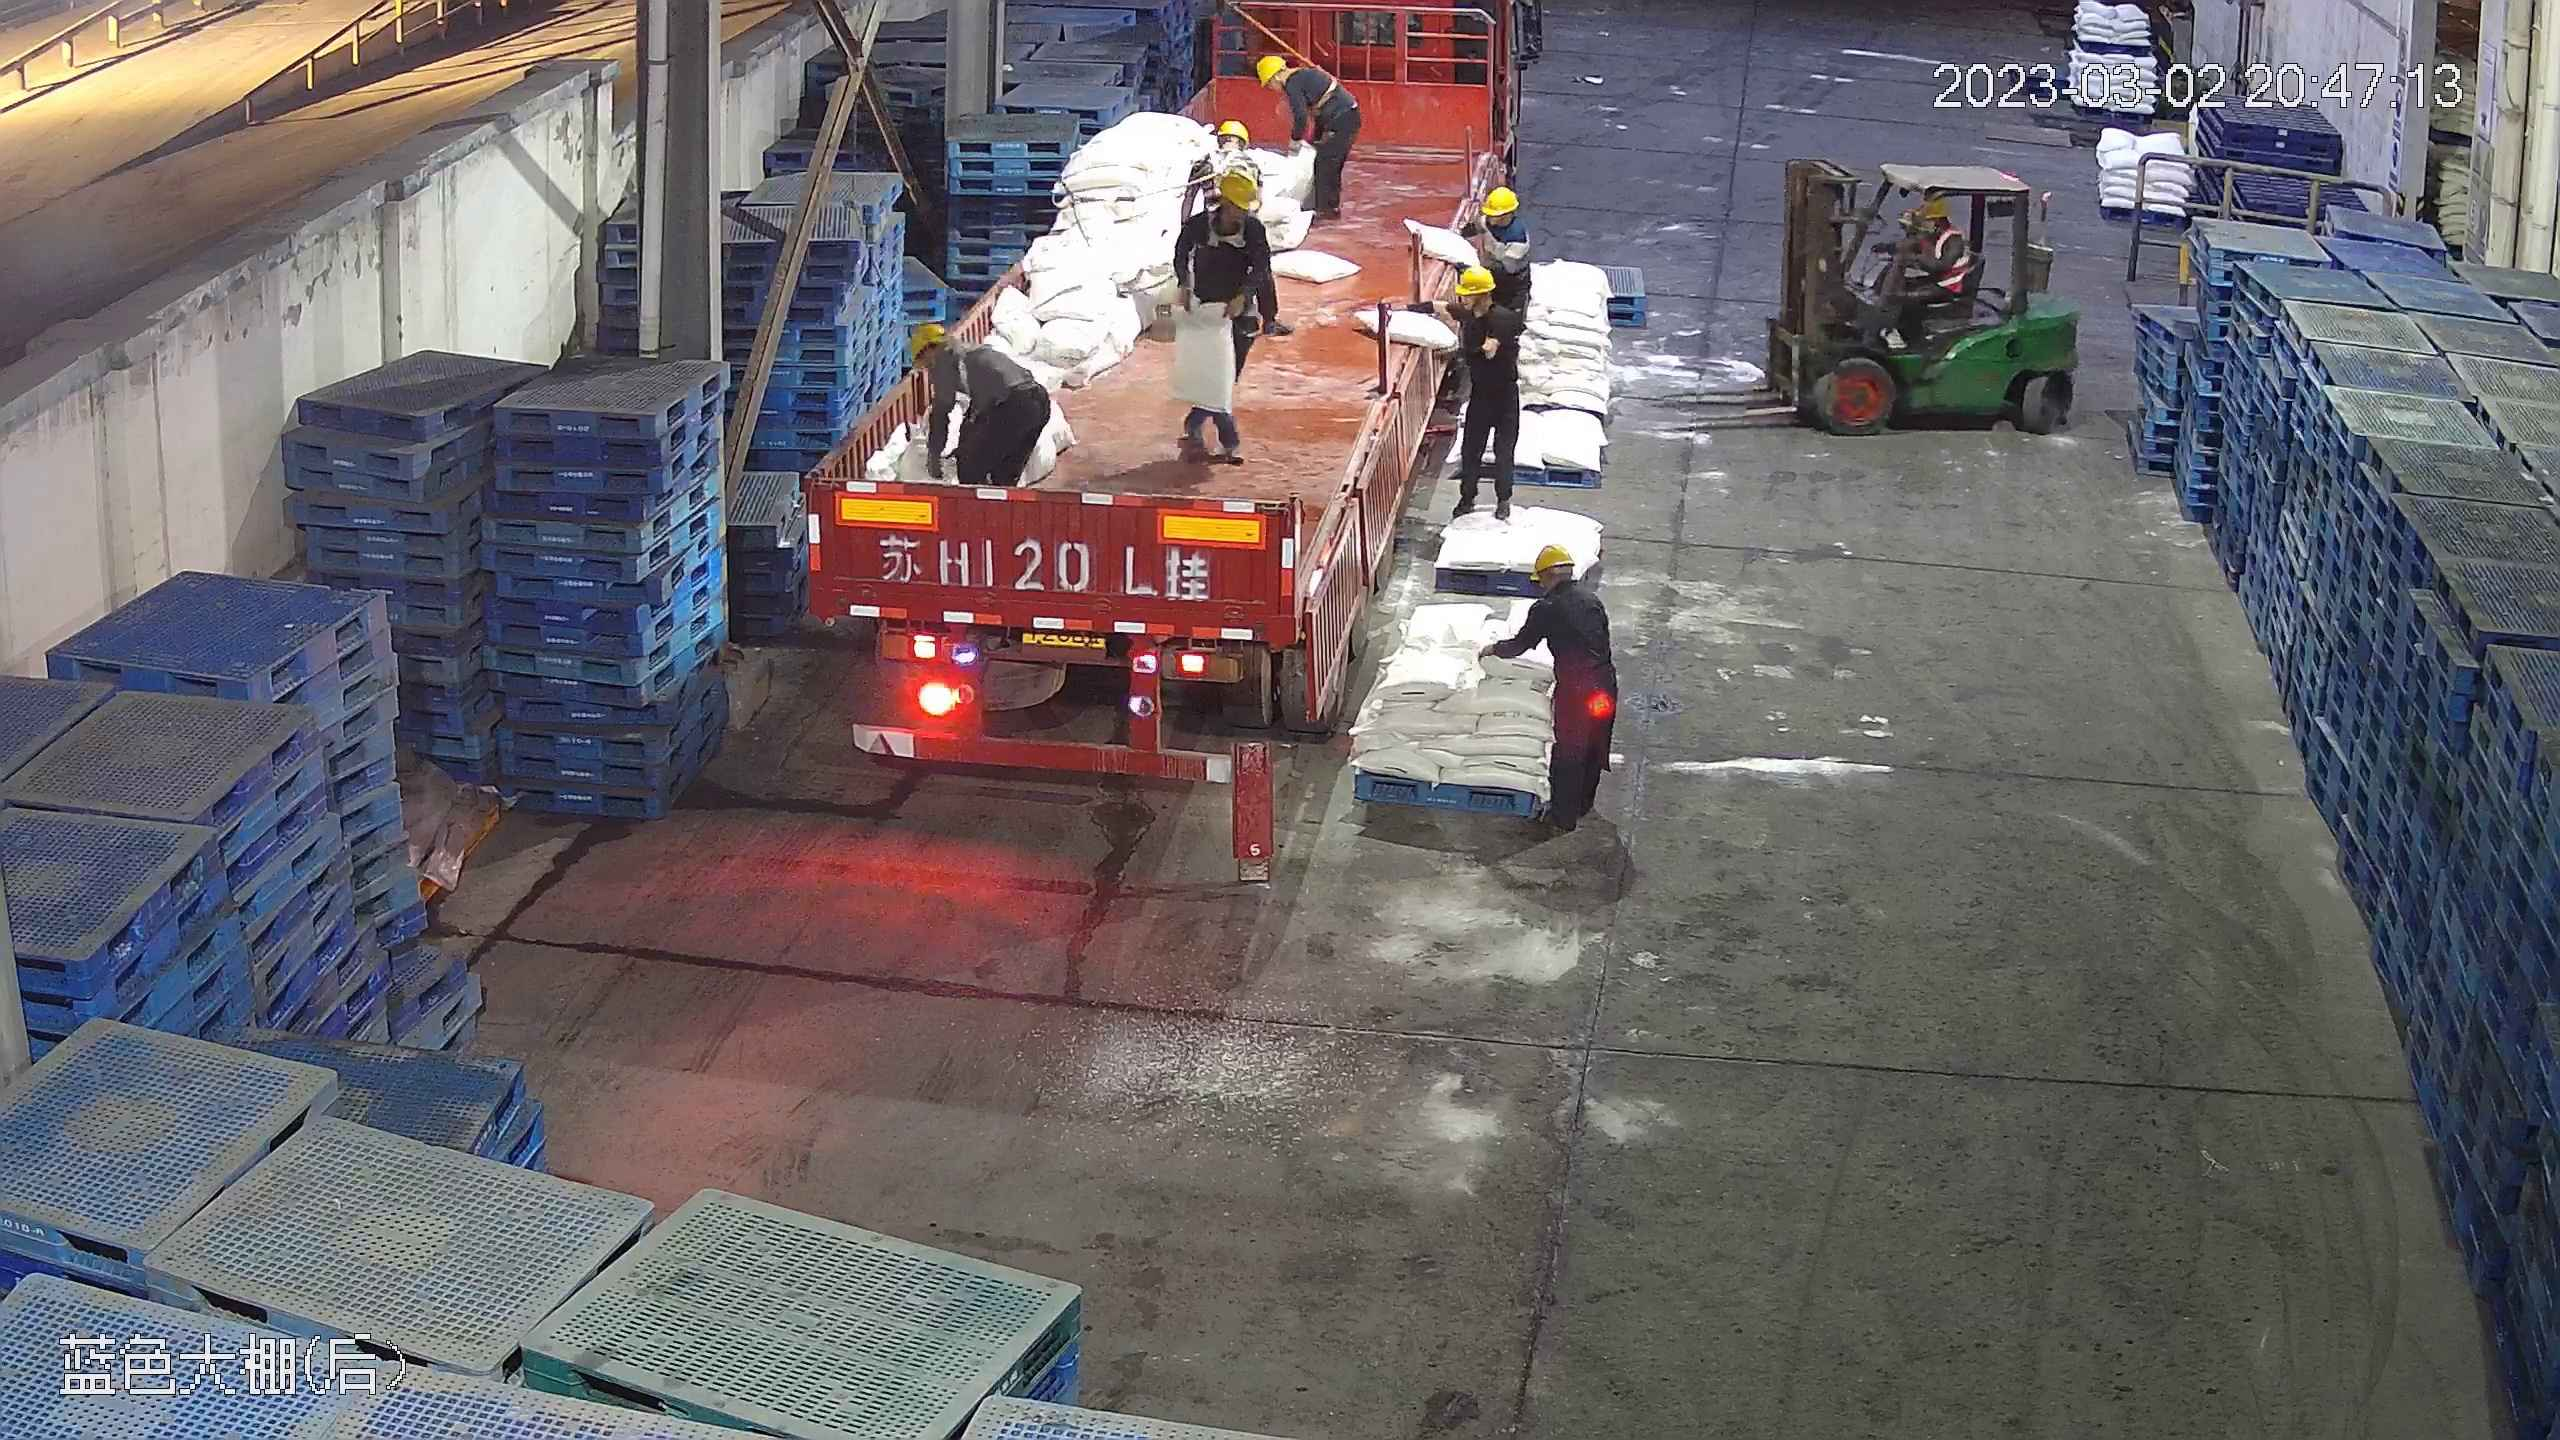belt: (939, 334, 988, 390), (1294, 64, 1347, 113), (1198, 209, 1244, 252), (1197, 144, 1238, 194)
head: (1520, 542, 1607, 634), (908, 319, 999, 401), (1179, 169, 1264, 249), (1446, 263, 1513, 351), (1460, 184, 1523, 256), (1191, 118, 1261, 179), (1256, 53, 1325, 105), (1914, 193, 1968, 258)
helmet: (908, 319, 954, 364), (1214, 166, 1260, 208), (1528, 541, 1578, 579), (1452, 261, 1497, 300), (1209, 116, 1247, 148), (1481, 185, 1515, 216), (1255, 53, 1286, 88), (1914, 191, 1949, 217)
people: (1483, 538, 1622, 839), (1165, 158, 1270, 467), (908, 320, 1060, 497), (1443, 259, 1521, 524), (1254, 49, 1365, 225), (1882, 190, 1969, 318)
truck: (832, 34, 1501, 773)
